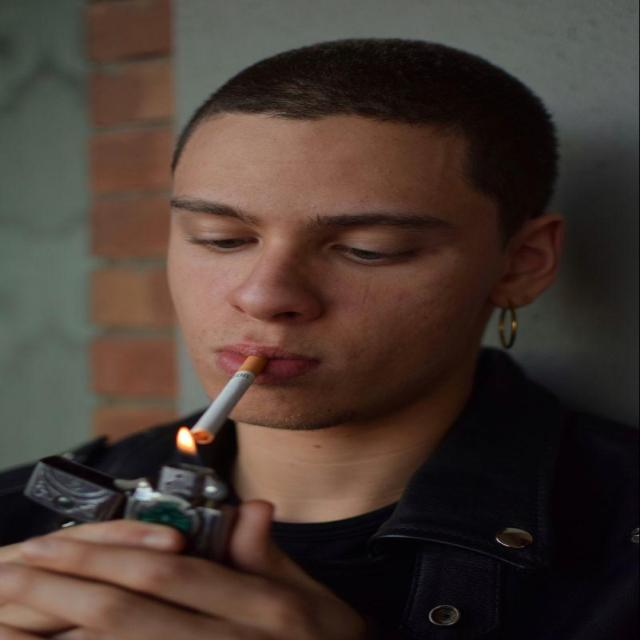cigarette: (190, 344, 269, 459)
